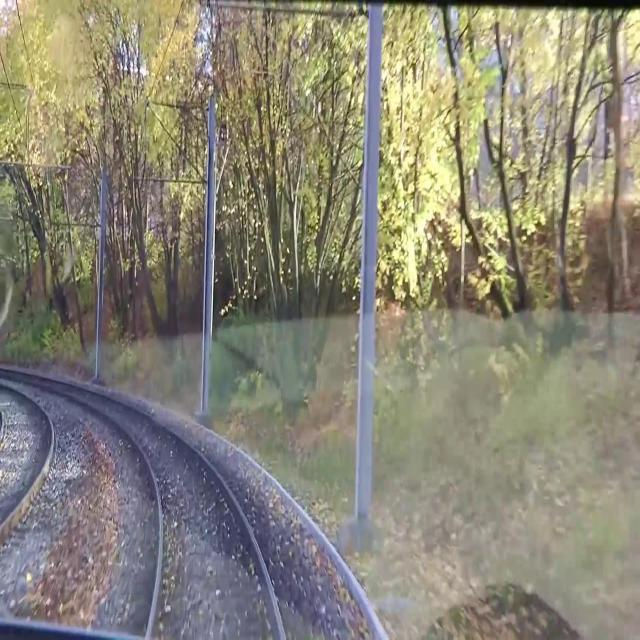rail-track: (32, 378, 279, 639), (0, 388, 49, 520)
